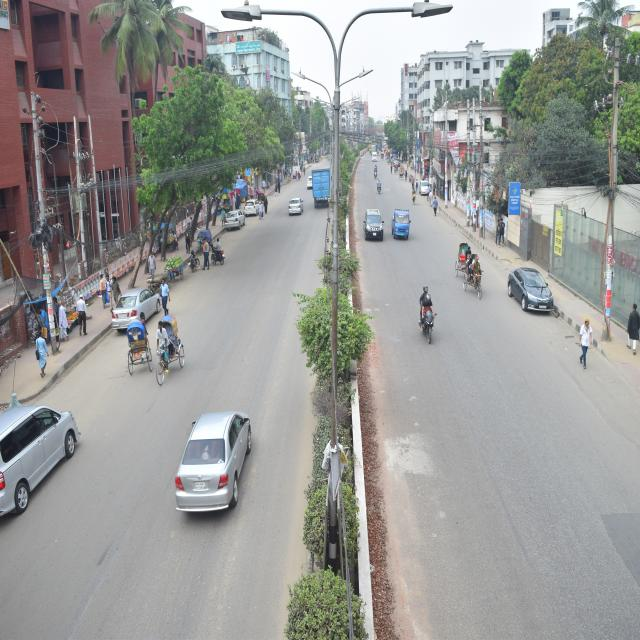car: (0, 362, 97, 520), (174, 396, 264, 528), (83, 275, 172, 356), (509, 252, 568, 330), (349, 190, 388, 256), (218, 198, 245, 248), (285, 187, 308, 236), (246, 192, 266, 228), (414, 172, 434, 204), (302, 166, 312, 198), (371, 148, 378, 166)
motorbike: (399, 267, 445, 370), (206, 240, 229, 275), (374, 177, 384, 197), (370, 164, 382, 180)
pickup-van: (392, 206, 416, 247)
truck: (308, 157, 336, 223)
